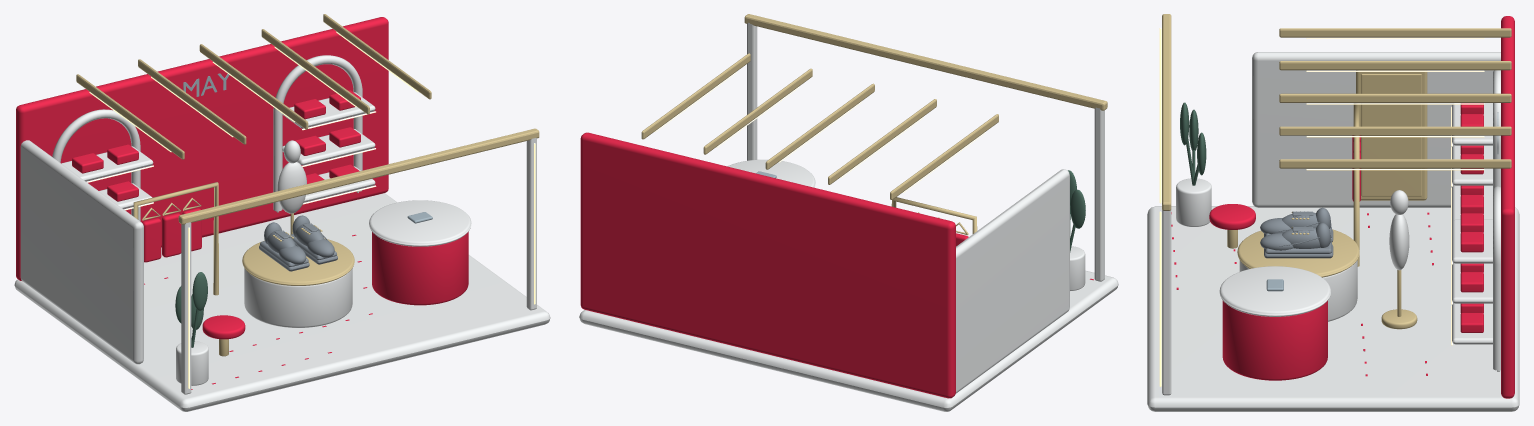
The model's file is store-may.glb.
3 views of the same model, side by side, from view 1: azimuth 30°, elevation 25°; view 2: azimuth 150°, elevation 25°; view 3: azimuth 270°, elevation 25° (orthographic). The views are drawn at different scales.
Parts seen in each view (by area): view 1: may_back_wall, may_terrazzo_base, may_side_wall, may_curved_counter, may_hero_podium, may_premium_entry_header, may_countertop, may_podium_rim, may_arched_portal.001, may_premium_entry_column, may_premium_entry_column.001, may_arched_portal (+21 smaller); view 2: may_back_wall, may_side_wall, may_terrazzo_base, may_premium_entry_header, may_premium_entry_column, may_premium_entry_column.001, may_countertop, may_ceiling_fin.003, may_ceiling_fin.004, may_ceiling_fin.002, may_ceiling_fin, may_ceiling_fin.001 (+3 smaller); view 3: may_terrazzo_base, may_side_wall, may_curved_counter, may_mirror, may_back_wall, may_countertop, may_podium_rim, may_ceiling_fin, may_ceiling_fin.001, may_ceiling_fin.002, may_ceiling_fin.003, may_ceiling_fin.004 (+35 smaller).
Boxes of the visible parts, left/top/right/bottom form: may_back_wall: left=16, top=17, right=388, bottom=280; may_terrazzo_base: left=14, top=193, right=550, bottom=411; may_side_wall: left=20, top=140, right=143, bottom=364; may_curved_counter: left=372, top=232, right=468, bottom=305; may_hero_podium: left=244, top=268, right=352, bottom=327; may_premium_entry_header: left=178, top=128, right=539, bottom=224; may_countertop: left=369, top=200, right=471, bottom=246; may_podium_rim: left=242, top=238, right=354, bottom=285; may_arched_portal.001: left=273, top=55, right=362, bottom=211; may_premium_entry_column: left=181, top=222, right=191, bottom=394; may_premium_entry_column.001: left=526, top=138, right=536, bottom=310; may_arched_portal: left=52, top=109, right=140, bottom=221; may_back_wall: left=580, top=132, right=955, bottom=398; may_side_wall: left=955, top=169, right=1069, bottom=393; may_terrazzo_base: left=579, top=270, right=1118, bottom=411; may_premium_entry_header: left=744, top=14, right=1107, bottom=110; may_premium_entry_column: left=1094, top=107, right=1104, bottom=281; may_premium_entry_column.001: left=747, top=22, right=757, bottom=160; may_countertop: left=727, top=159, right=815, bottom=187; may_ceiling_fin.003: left=703, top=68, right=812, bottom=154; may_ceiling_fin.004: left=641, top=53, right=750, bottom=139; may_ceiling_fin.002: left=765, top=83, right=874, bottom=169; may_ceiling_fin: left=890, top=114, right=998, bottom=199; may_ceiling_fin.001: left=828, top=99, right=936, bottom=184; may_terrazzo_base: left=1147, top=206, right=1519, bottom=411; may_side_wall: left=1252, top=52, right=1500, bottom=207; may_curved_counter: left=1222, top=300, right=1327, bottom=380; may_mirror: left=1361, top=74, right=1421, bottom=196; may_back_wall: left=1501, top=16, right=1514, bottom=398; may_countertop: left=1219, top=266, right=1330, bottom=316; may_podium_rim: left=1237, top=229, right=1359, bottom=277; may_ceiling_fin: left=1279, top=28, right=1511, bottom=37; may_ceiling_fin.001: left=1279, top=61, right=1511, bottom=70; may_ceiling_fin.002: left=1279, top=93, right=1511, bottom=102; may_ceiling_fin.003: left=1279, top=126, right=1511, bottom=135; may_ceiling_fin.004: left=1279, top=159, right=1511, bottom=168.
Size of the model in its own units: 6 by 3.17 by 4.8.
